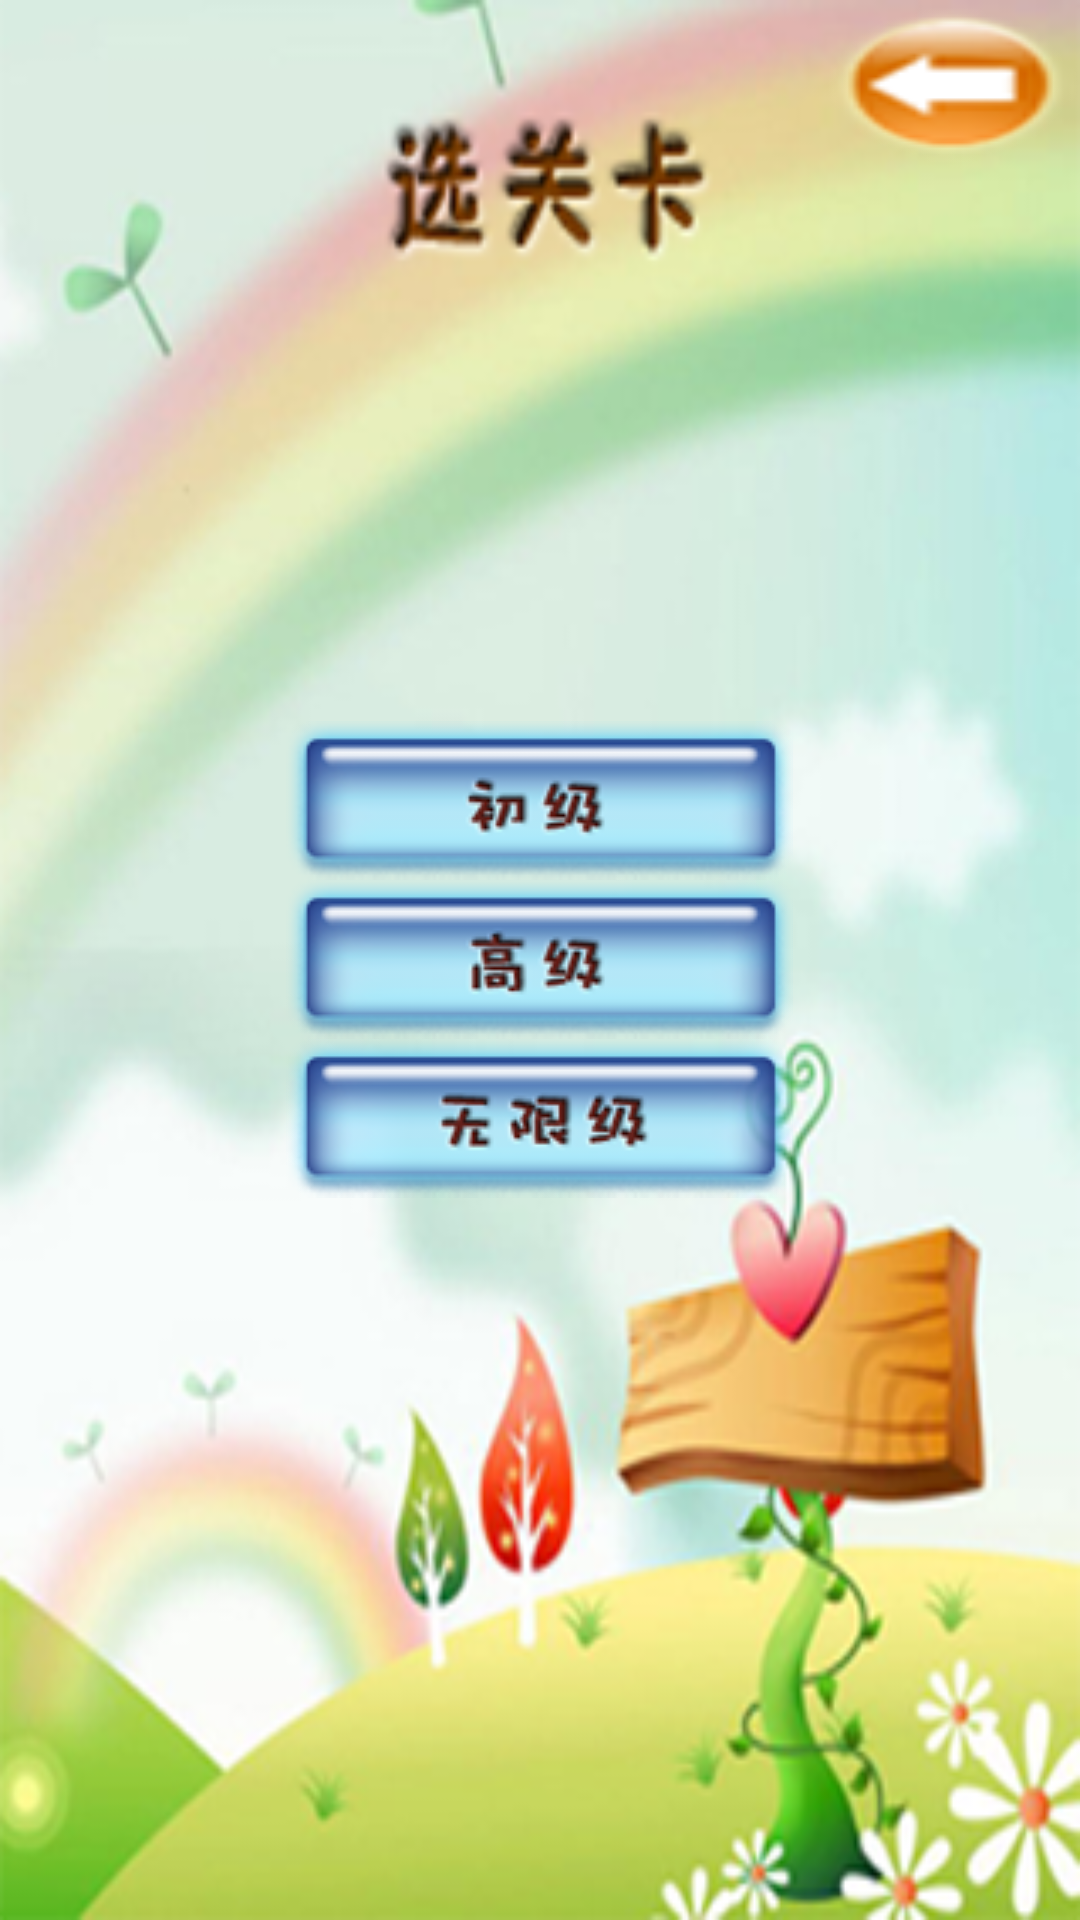

Locate icon controls on the screen. Image size 1080 × 1920, boxes as (x1, y1, x2, y2).
goback: (850, 35, 1051, 146)
